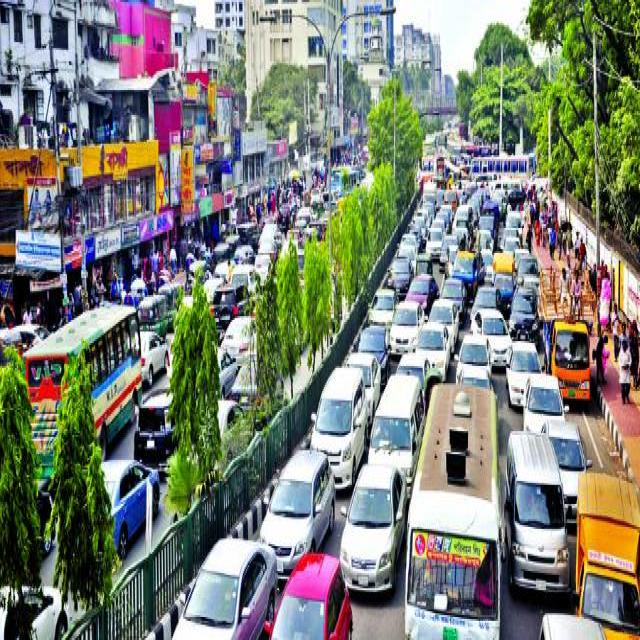Bus: (19, 301, 142, 477)
